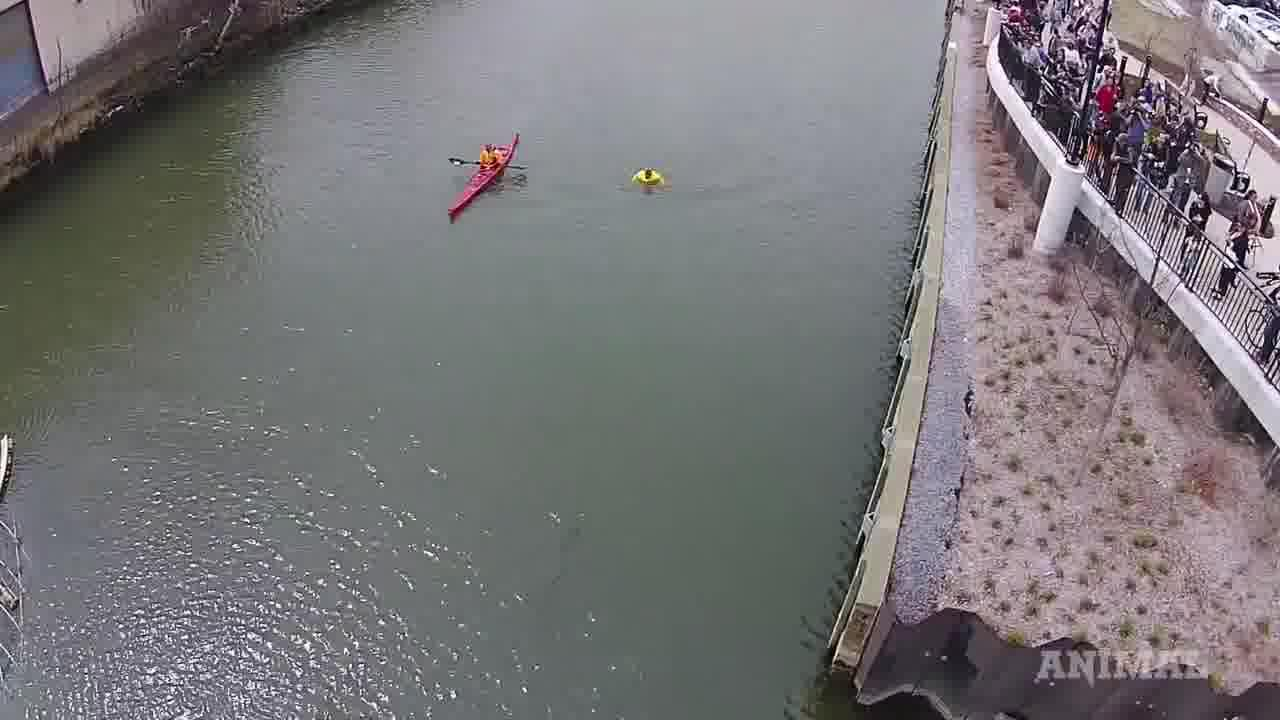swimmer: (617, 159, 673, 195)
